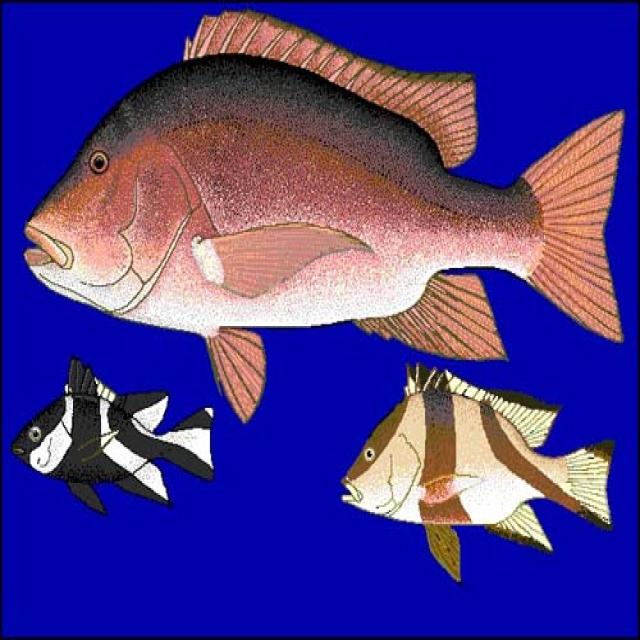ikan: (22, 10, 626, 420), (340, 360, 614, 584), (9, 354, 215, 516)
